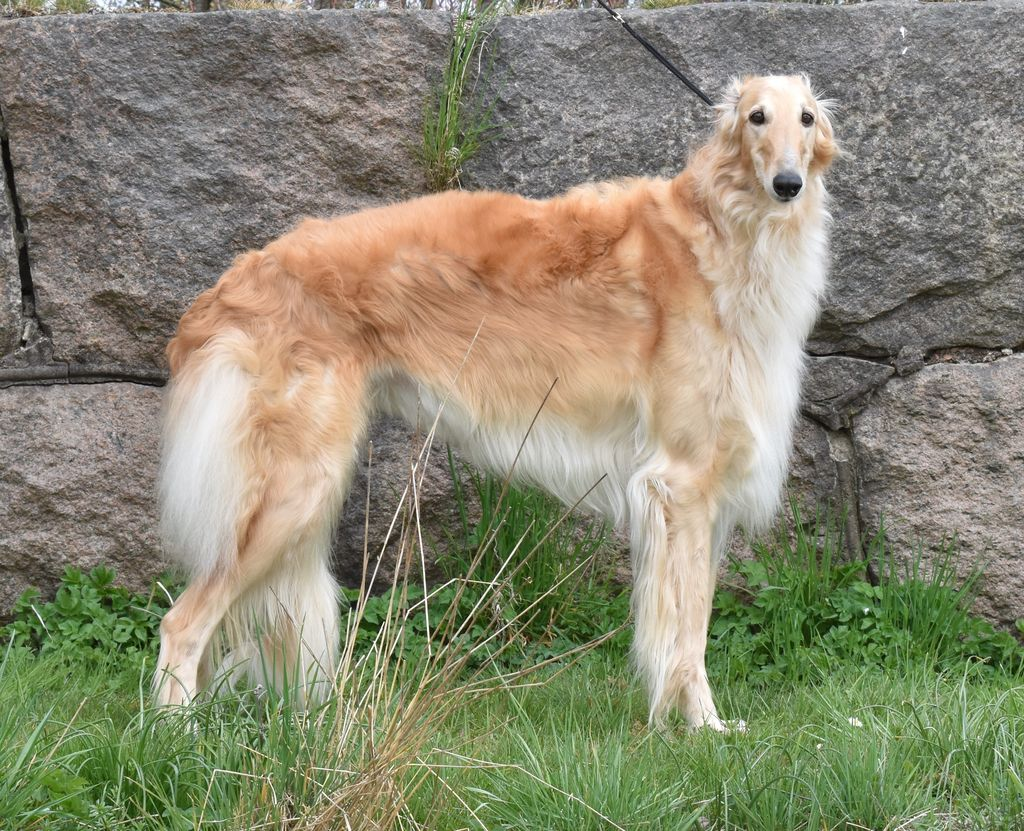borzoi: (113, 58, 909, 747)
